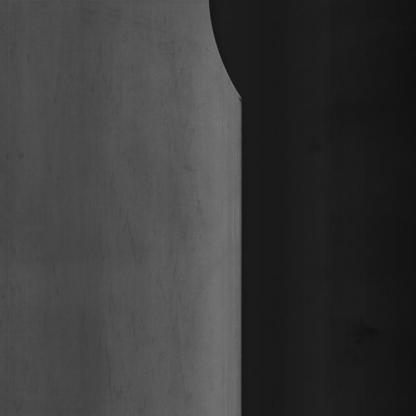crescent_gap: (196, 0, 270, 136)
